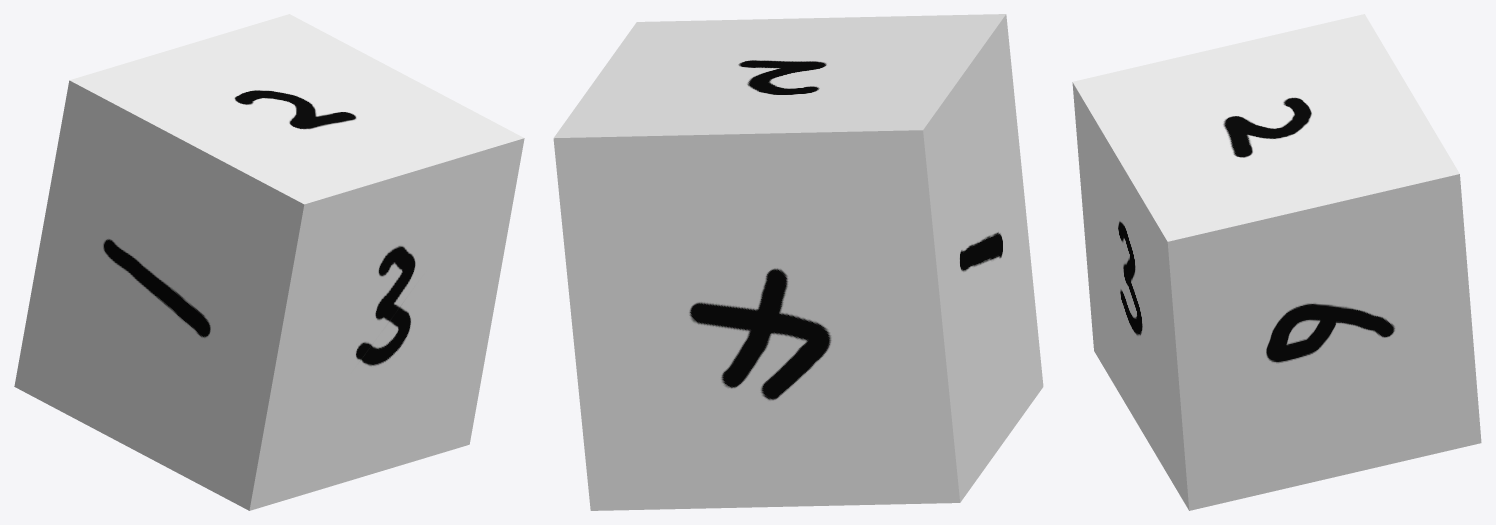
3 renders of one model, left to right at view 1: azimuth 30°, elevation 25°; view 2: azimuth 150°, elevation 25°; view 3: azimuth 270°, elevation 25°, orthographic. The views are drawn at different scales.
Parts seen in each view (by area): view 1: node_id6; view 2: node_id6; view 3: node_id6.
Part boxes in pixels (x1,y1,x2,y2): node_id6: (14,14,524,510); node_id6: (553,14,1043,510); node_id6: (1072,14,1481,510).
Size of the model in its own units: 5.84 by 5.25 by 5.5.
1 material, 1 textured.
